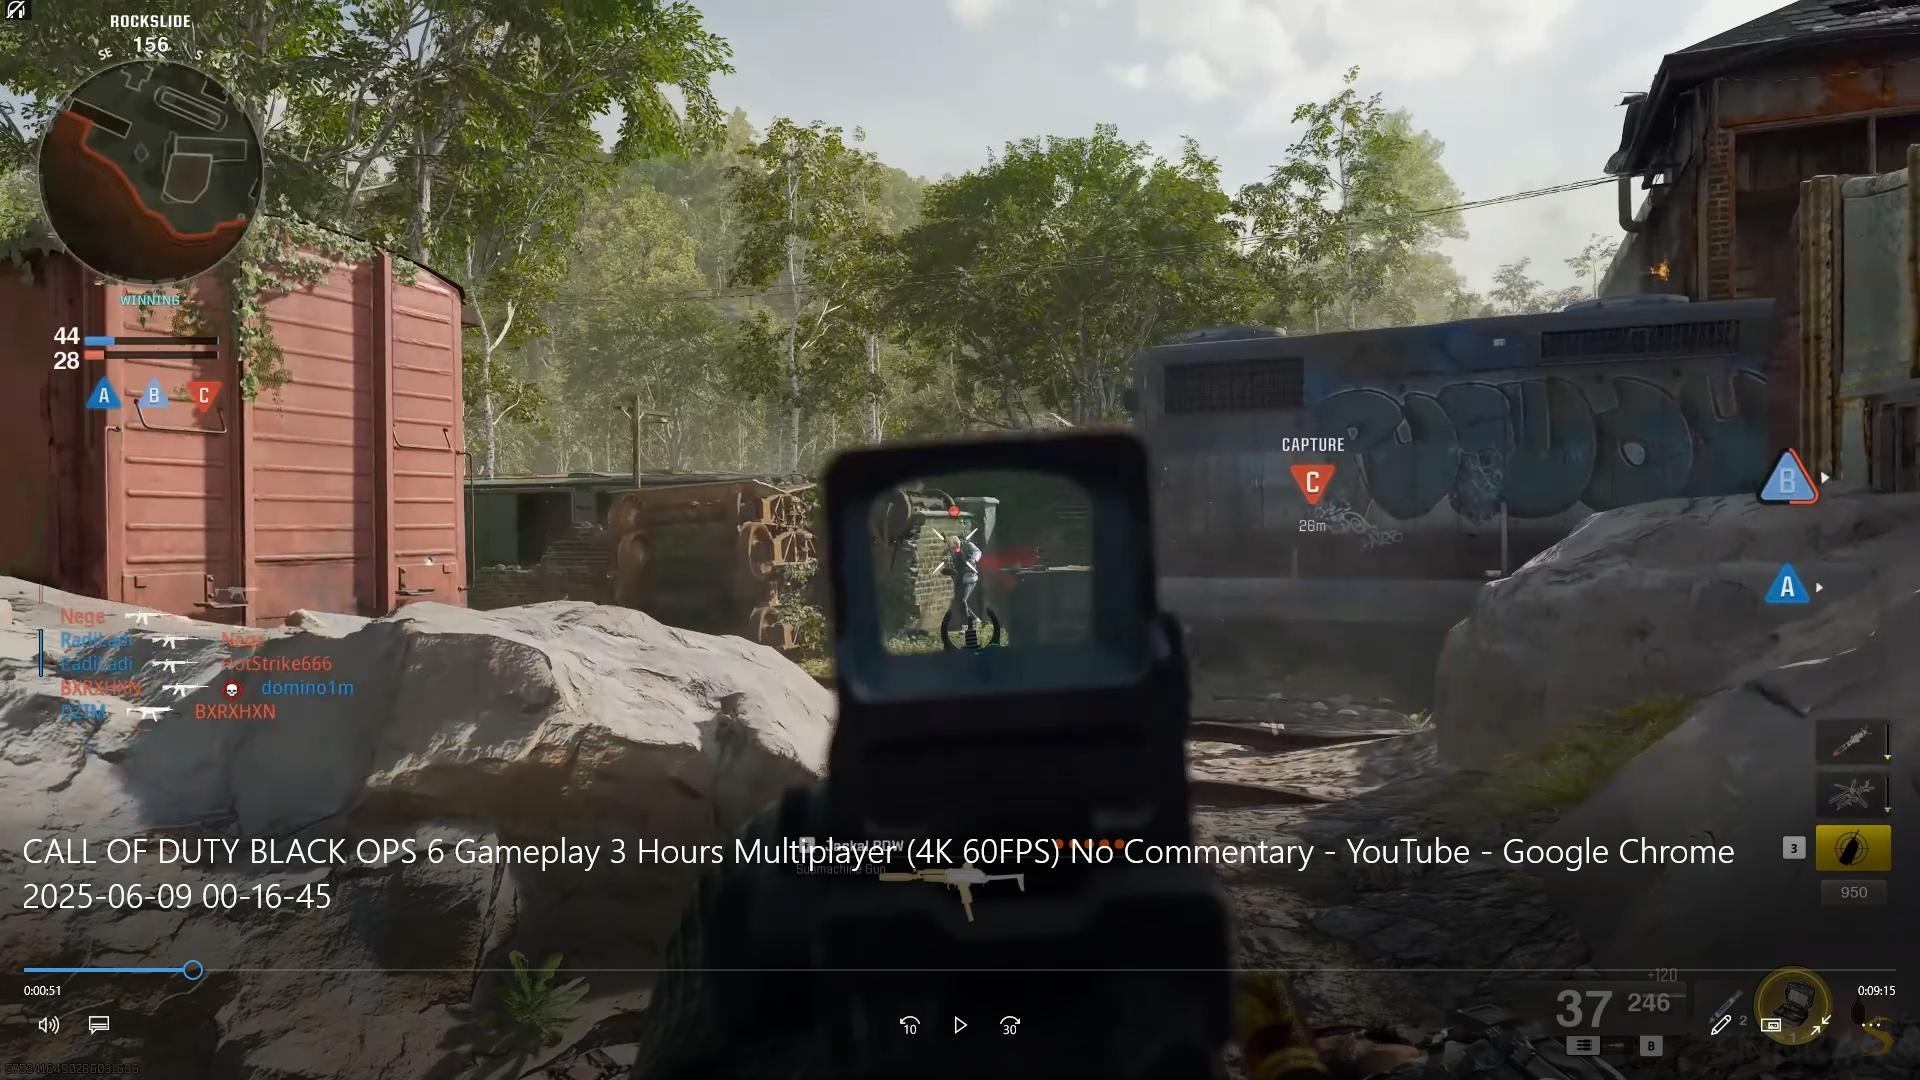Enemy: (932, 526, 984, 636)
